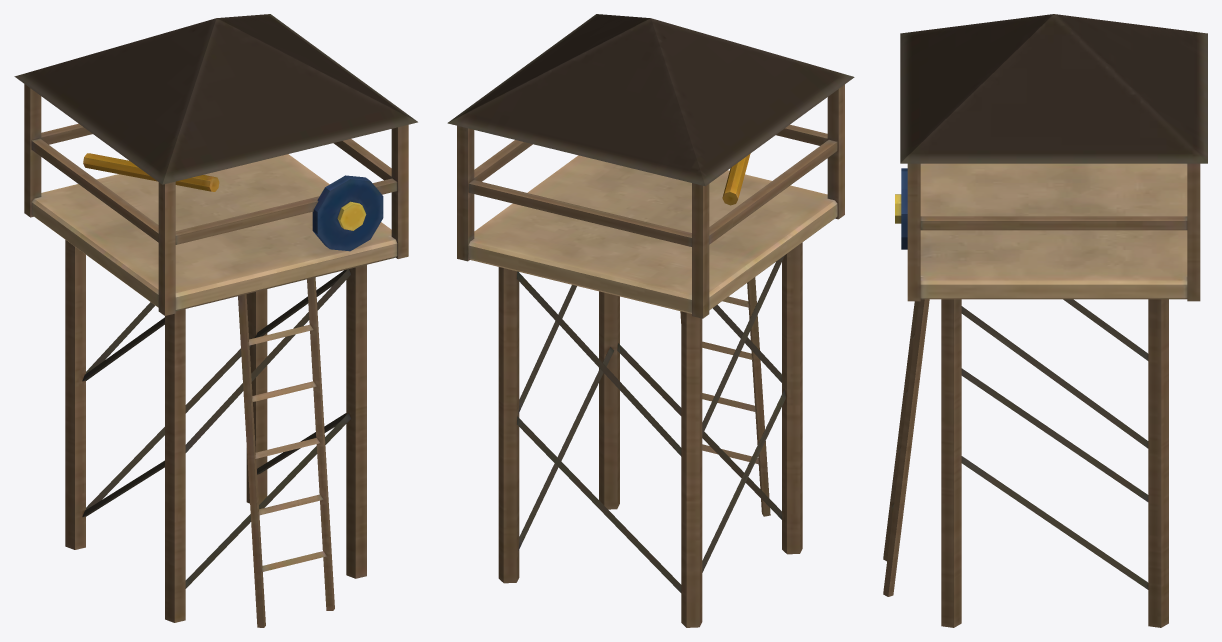
File: watchtower-2-age10.glb
3 renders of one model, left to right at view 1: azimuth 30°, elevation 25°; view 2: azimuth 150°, elevation 25°; view 3: azimuth 270°, elevation 25°, orthographic. The views are drawn at different scales.
Visible parts, largest first — view 1: watchtower-2-age10; view 2: watchtower-2-age10; view 3: watchtower-2-age10.
Boxes of the visible parts, x1,y1,x2,y2 form: watchtower-2-age10: [14, 14, 417, 627]; watchtower-2-age10: [447, 14, 854, 627]; watchtower-2-age10: [883, 14, 1207, 627].
Size of the model in its own units: 0.594 by 1.2 by 0.6269.
Materials: 1 (1 with a texture image).
